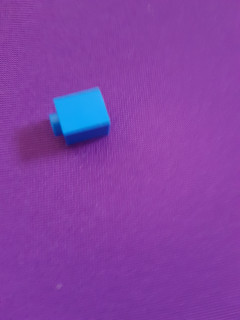1x1 blue: (46, 84, 115, 147)
